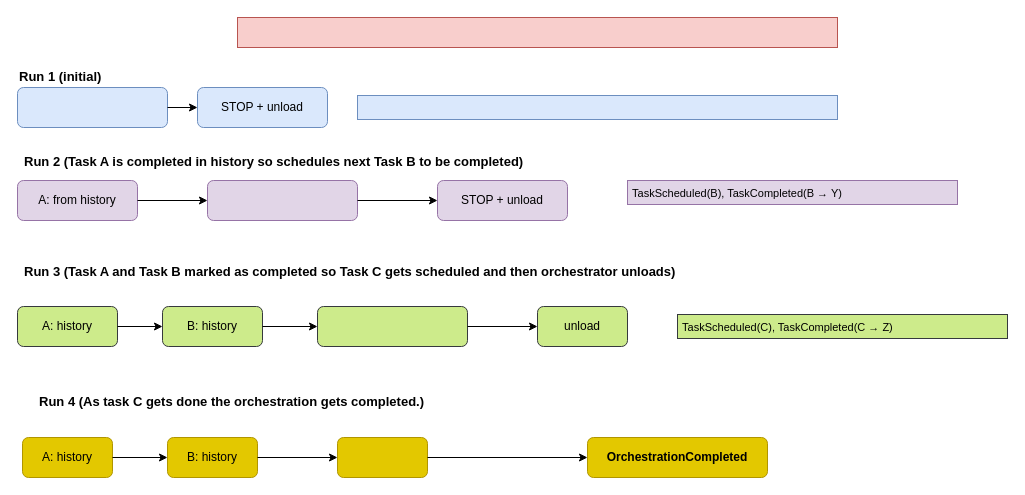
Image size: 1025x495. Some labels were removed from this diagram. Each missing label, with the centre of its shape:
"C: history" goes at point (382, 457).
"call A → schedule" goes at point (92, 107).
"call B → schedule" goes at point (282, 200).
"call C → schedule" goes at point (392, 326).
"history: ExecutionStarted, TaskScheduled(A), TaskCompleted(A → X)" goes at point (597, 107).
"Replay Mechanism — Step-by-Step (3 activities: A → B → C)" goes at point (537, 32).
